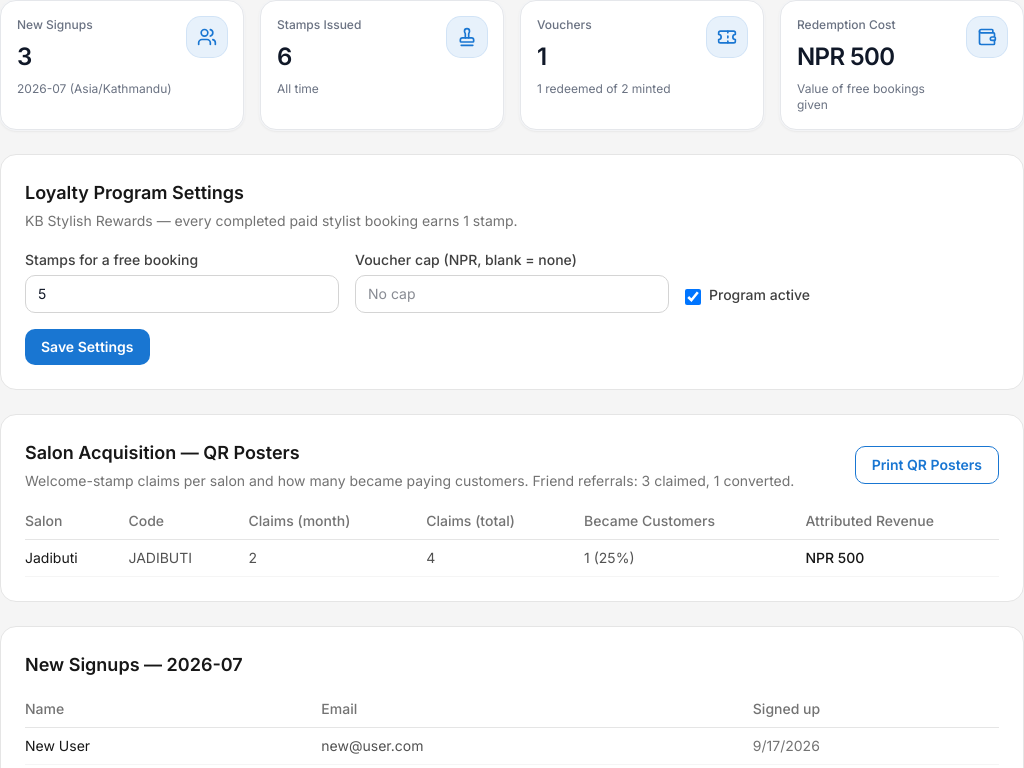
it: CrmClient › disables save for an out-of-range threshold
Replace the text in the number field with test id "config-stamps-required" with "0" at (182, 294), box x1=25 y1=275 x2=339 y2=313
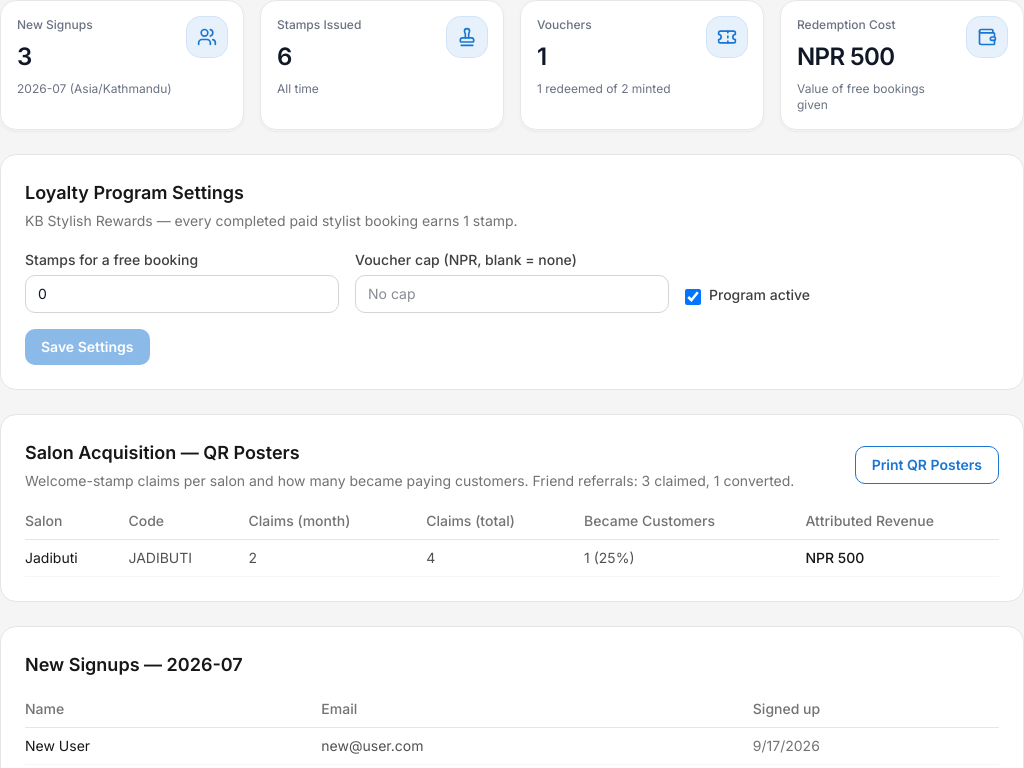
Expected: the button with test id "config-save" is disabled, x1=25 y1=329 x2=150 y2=365
